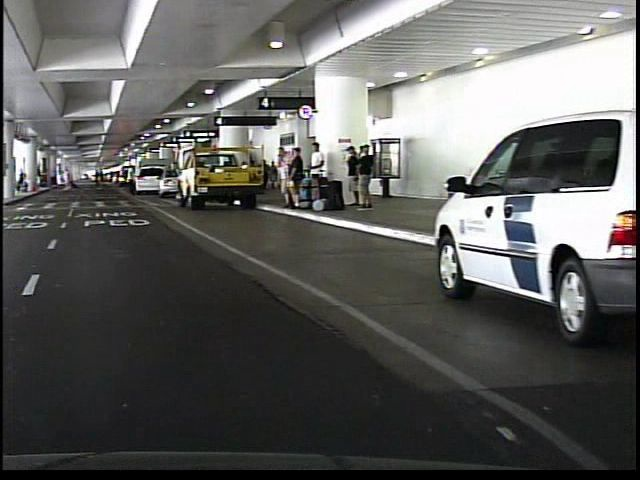person: (353, 144, 371, 214), (270, 145, 289, 206), (57, 162, 72, 196), (121, 166, 132, 197)
